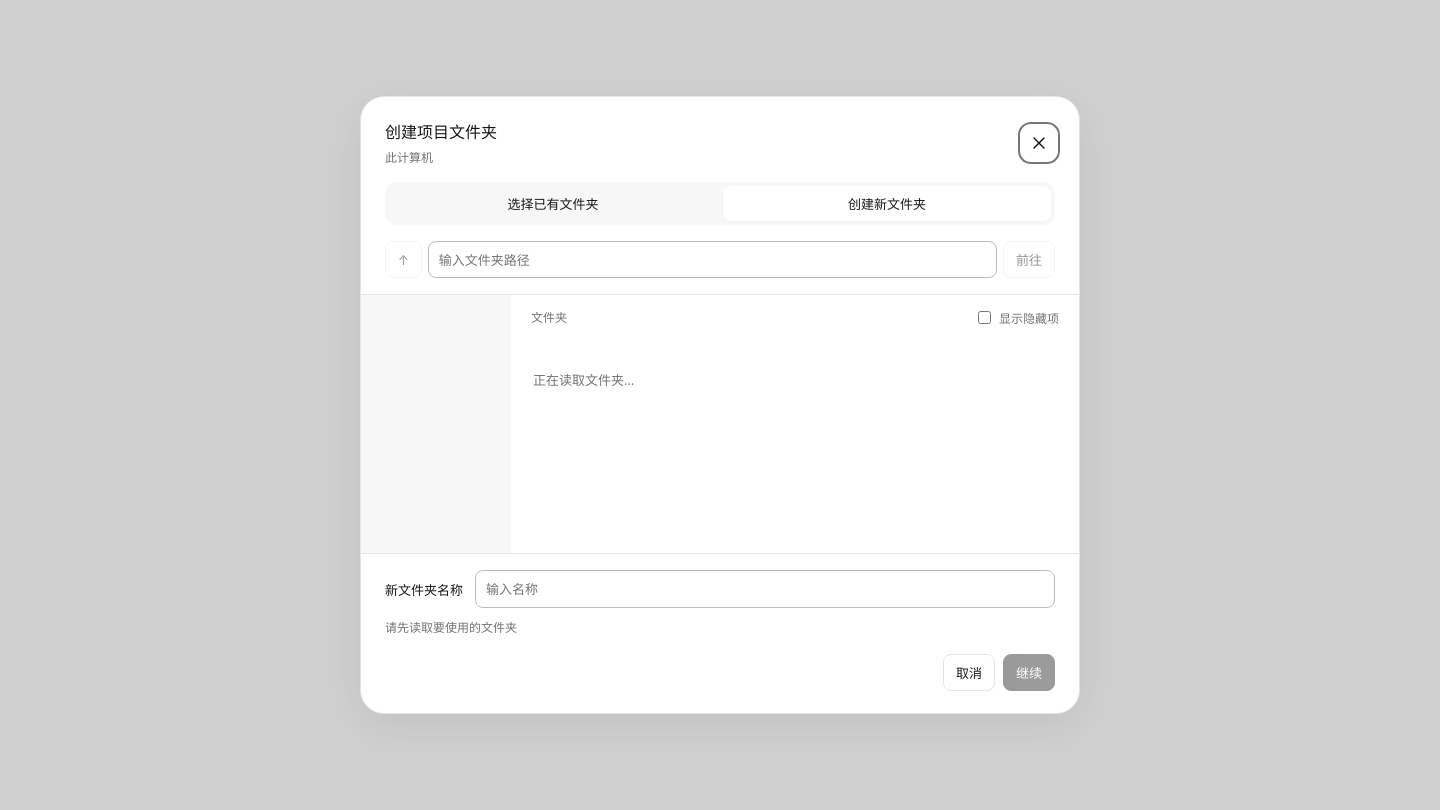
Test case: retains a failed creation for correction and never silently selects another directory
Type "exists" into the field labelled "新文件夹名称".
click(765, 589); type("exists")  # box left=475, top=570, right=1055, bottom=608
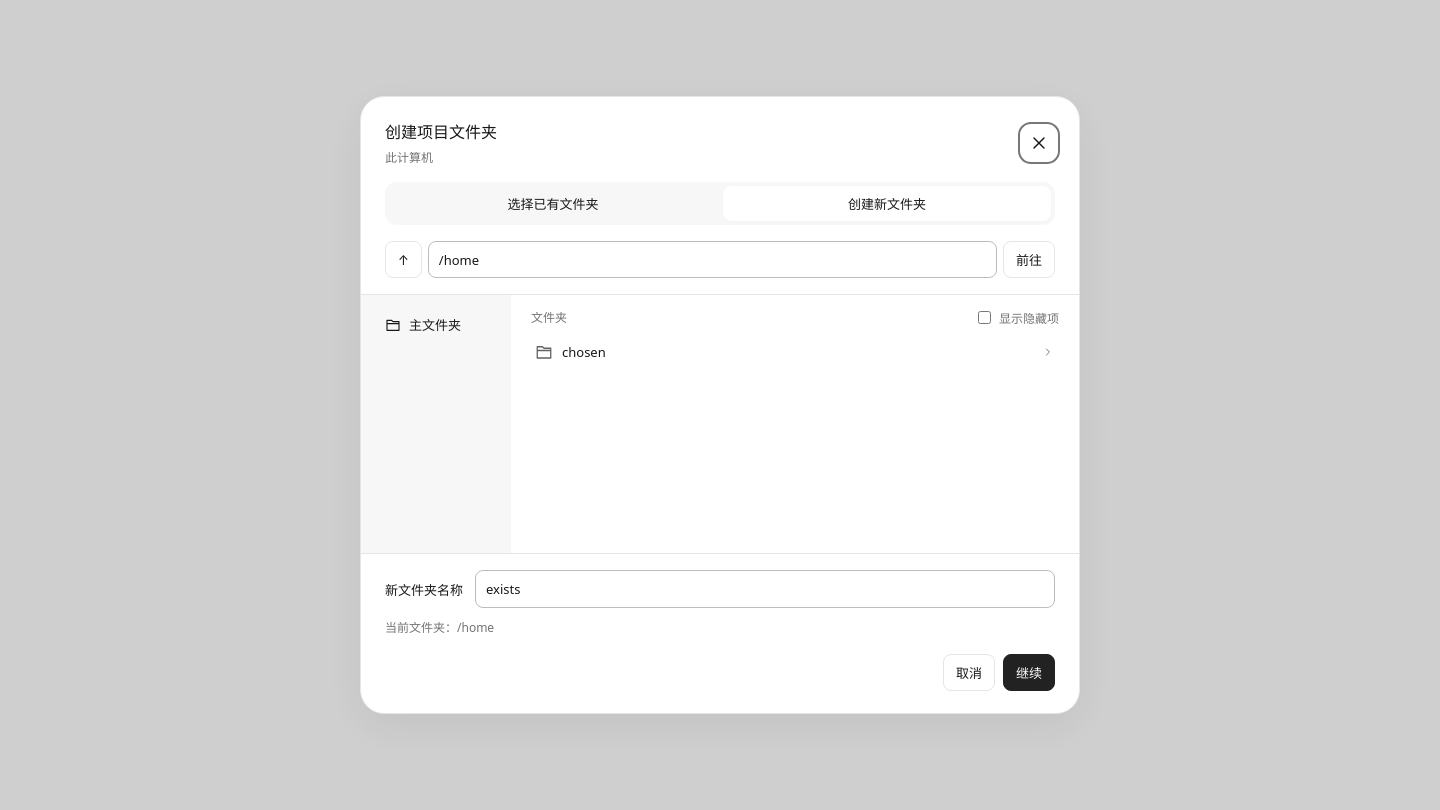
expect the button "继续" is enabled: met
Click the button "继续".
click(1029, 672)  # box left=1003, top=654, right=1055, bottom=691
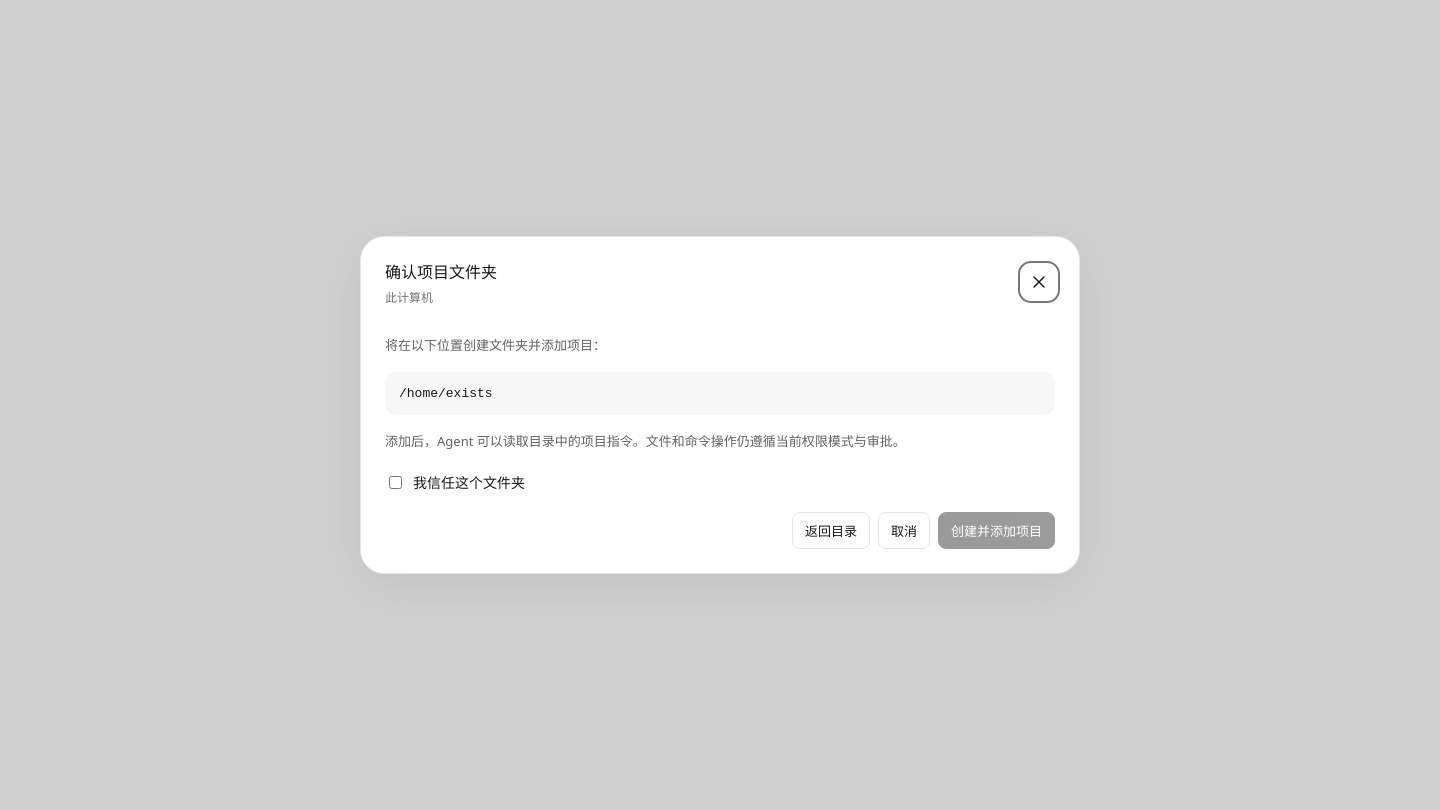
Click the checkbox labelled "我信任这个文件夹".
click(396, 482)  # box left=389, top=476, right=402, bottom=489
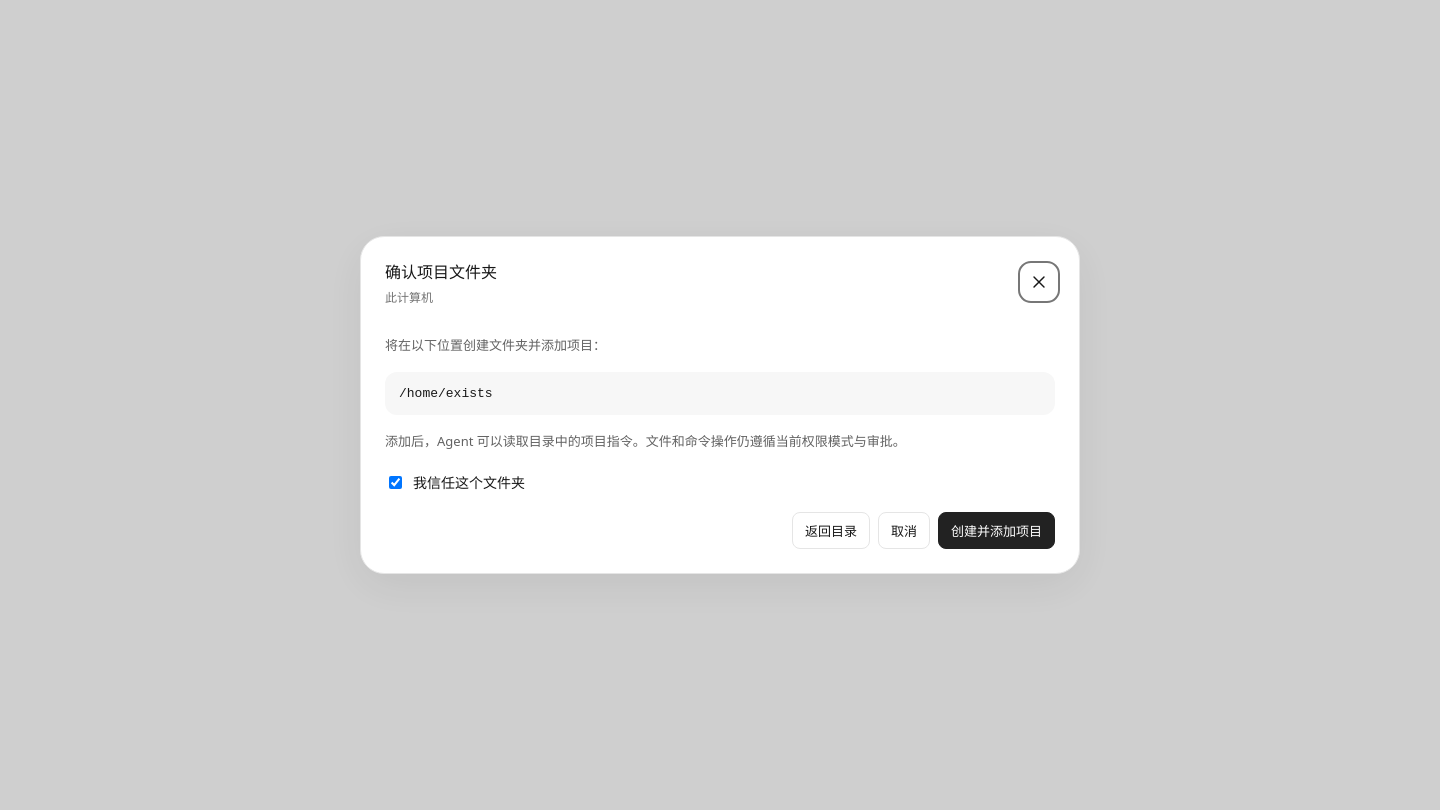
Click the button "创建并添加项目".
click(996, 531)  # box left=938, top=512, right=1055, bottom=549
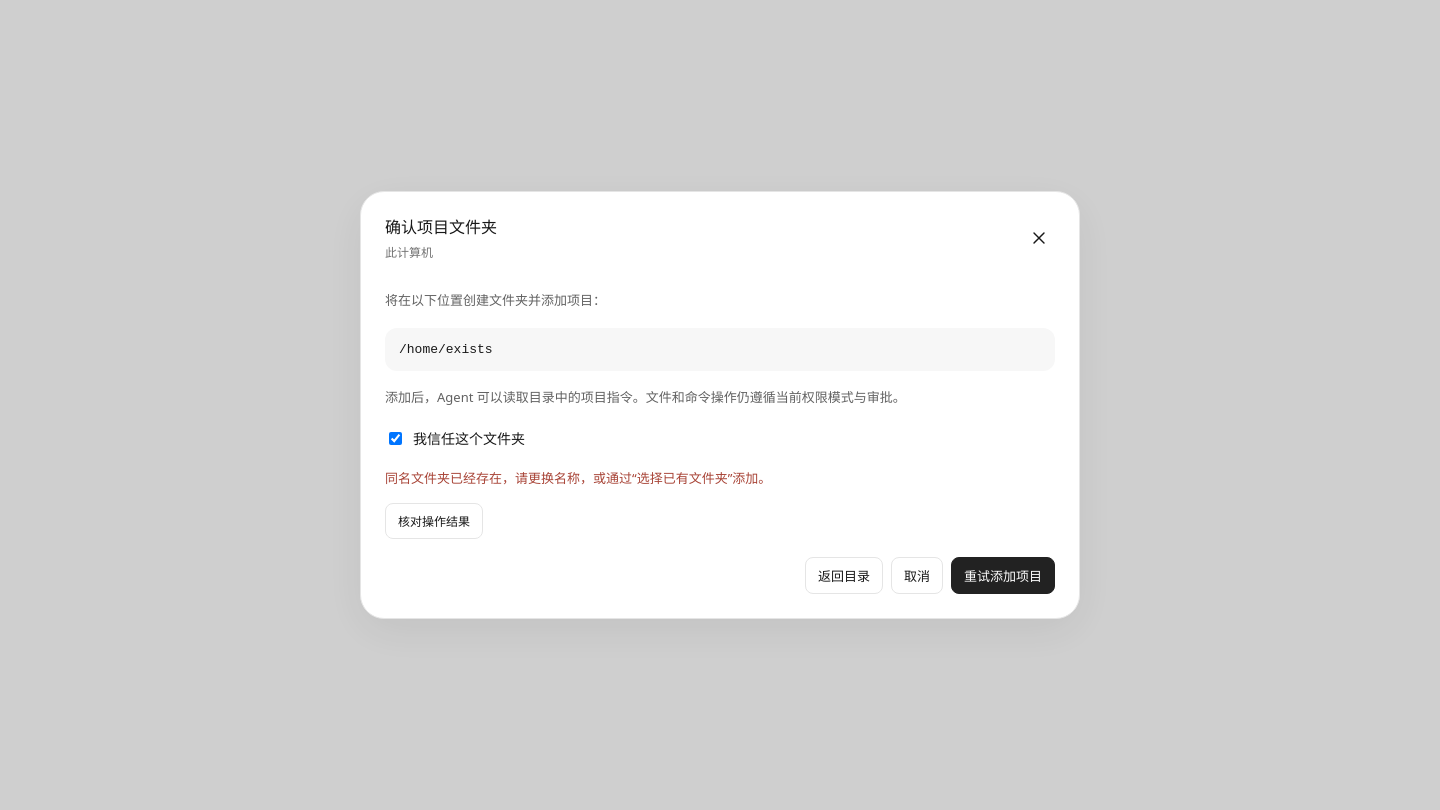
expect the text "/home/exists" is shown: met, box left=385, top=328, right=1055, bottom=371
expect the text "同名文件夹已经存在，请更换名称，或通过“选择已有文件夹”添加。" is shown: met, box left=385, top=469, right=771, bottom=487
Click the button "返回目录".
click(844, 575)  # box left=805, top=557, right=883, bottom=594
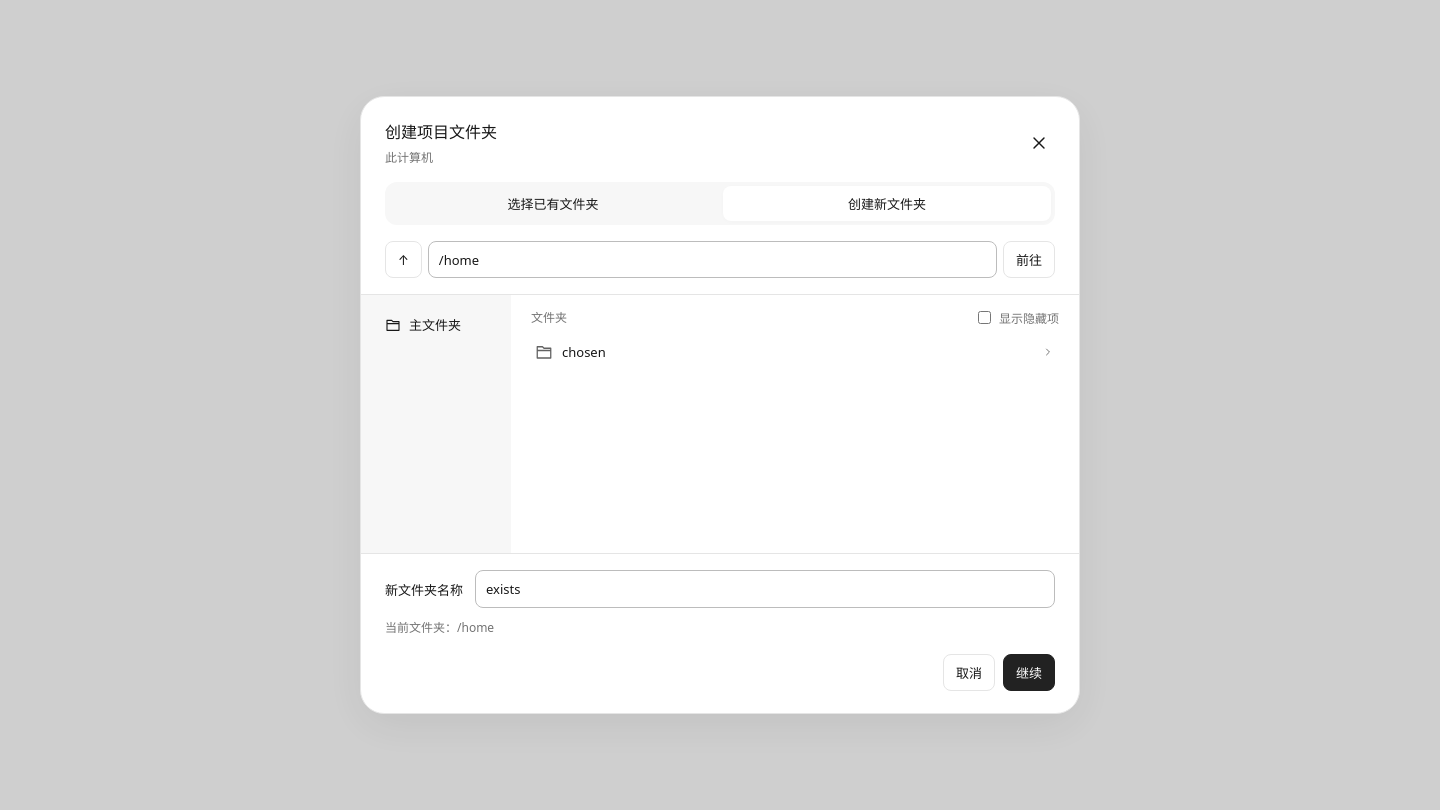
expect the field labelled "新文件夹名称" holds "exists": met, box left=475, top=570, right=1055, bottom=608
